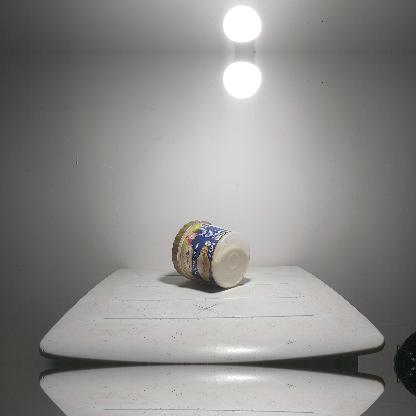Lady-s-Choice: (170, 219, 252, 290)
